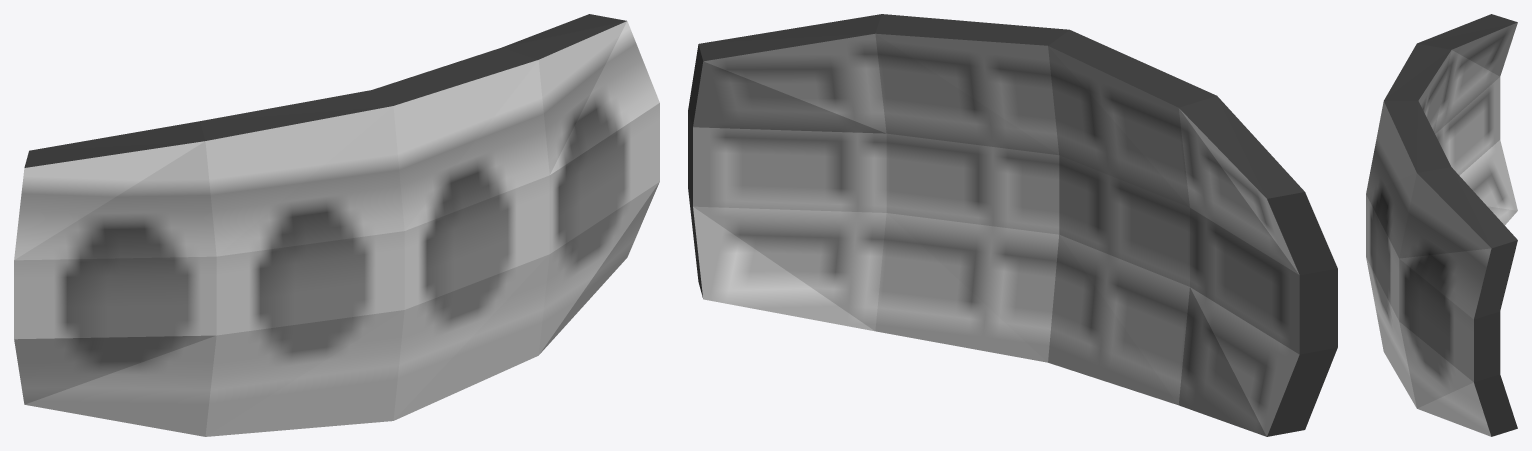
The model's file is houston3.obj.
3 views of the same model, side by side, from view 1: azimuth 30°, elevation 25°; view 2: azimuth 150°, elevation 25°; view 3: azimuth 270°, elevation 25° (orthographic). The views are drawn at different scales.
Parts seen in each view (by area): view 1: ColobotMesh_1_ColobotMesh_; view 2: ColobotMesh_1_ColobotMesh_; view 3: ColobotMesh_1_ColobotMesh_.
Boxes of the visible parts, bbox=[...] form: ColobotMesh_1_ColobotMesh_: bbox=[14, 14, 659, 436]; ColobotMesh_1_ColobotMesh_: bbox=[688, 14, 1337, 436]; ColobotMesh_1_ColobotMesh_: bbox=[1366, 14, 1517, 436].
Bounding box in the file's own units: 8.57 × 3.99 × 2.19.
